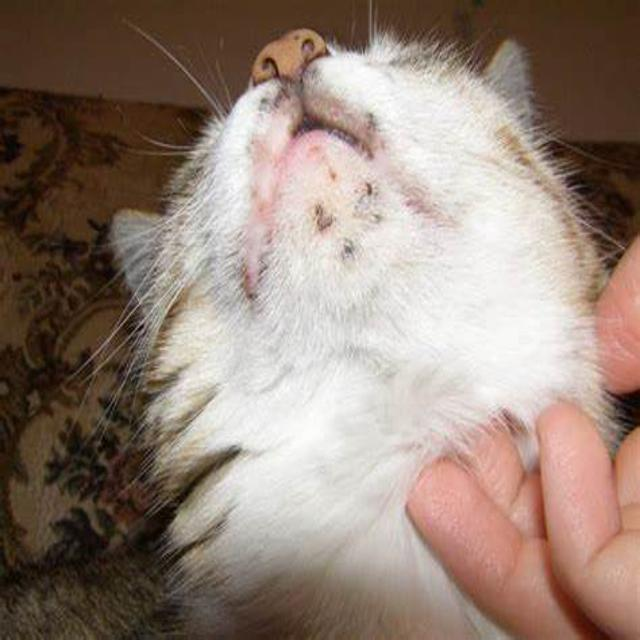acne: (313, 185, 392, 264)
